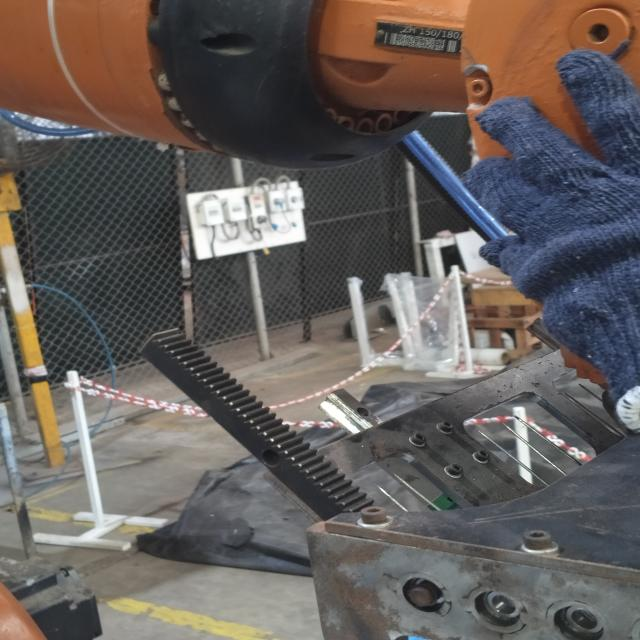Gloves-Detection: (455, 53, 640, 417)
